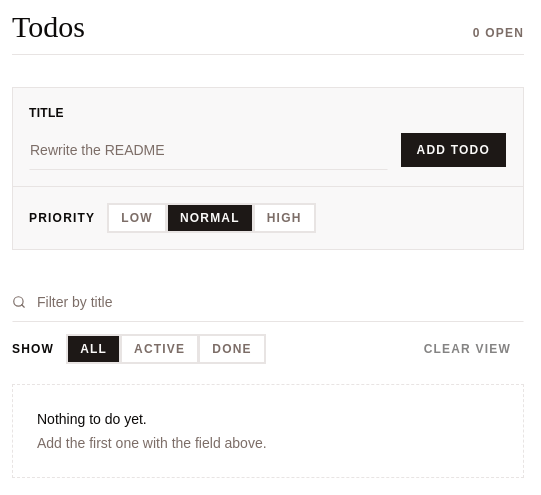
Test: <TodosPanel /> › adds a todo at the picked priority and shows it in the list
This screenshot has width=541, height=495.
Expected: the text "Nothing to do yet." is shown, [37, 410, 147, 426]
Click the button "high".
click(284, 218)  # box [254, 204, 314, 232]
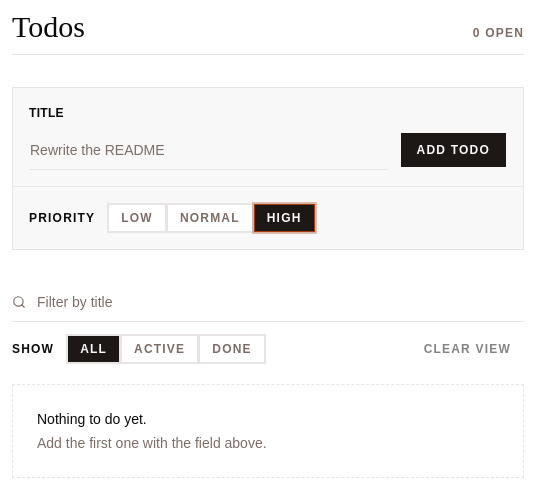
Type "Ship it" into the field labelled "Title".
click(208, 150); type("Ship it")  # box [29, 130, 388, 170]
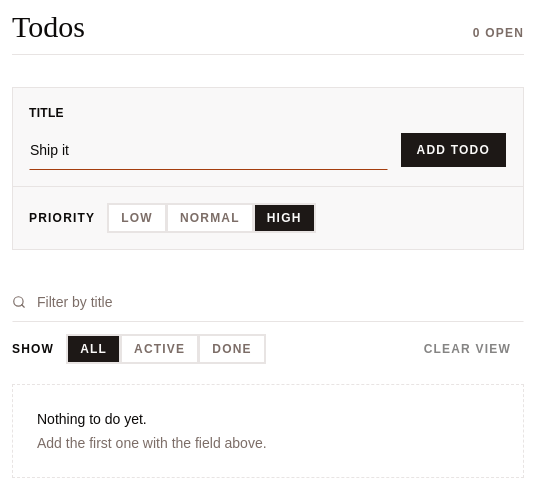
Click the button "Add todo".
click(453, 150)  # box [400, 132, 507, 168]
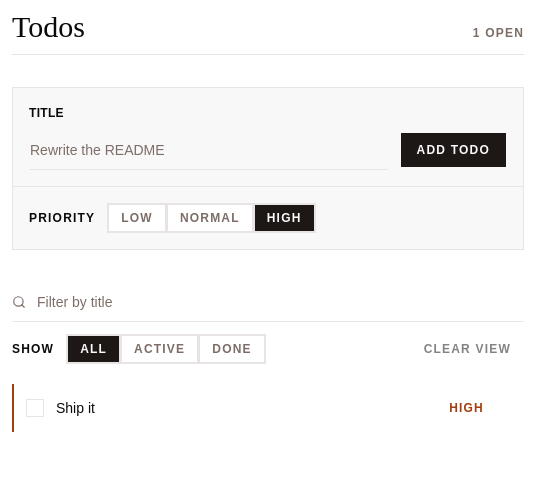
Expected: the list named "Todos" shows "Ship it", [56, 398, 437, 418]
